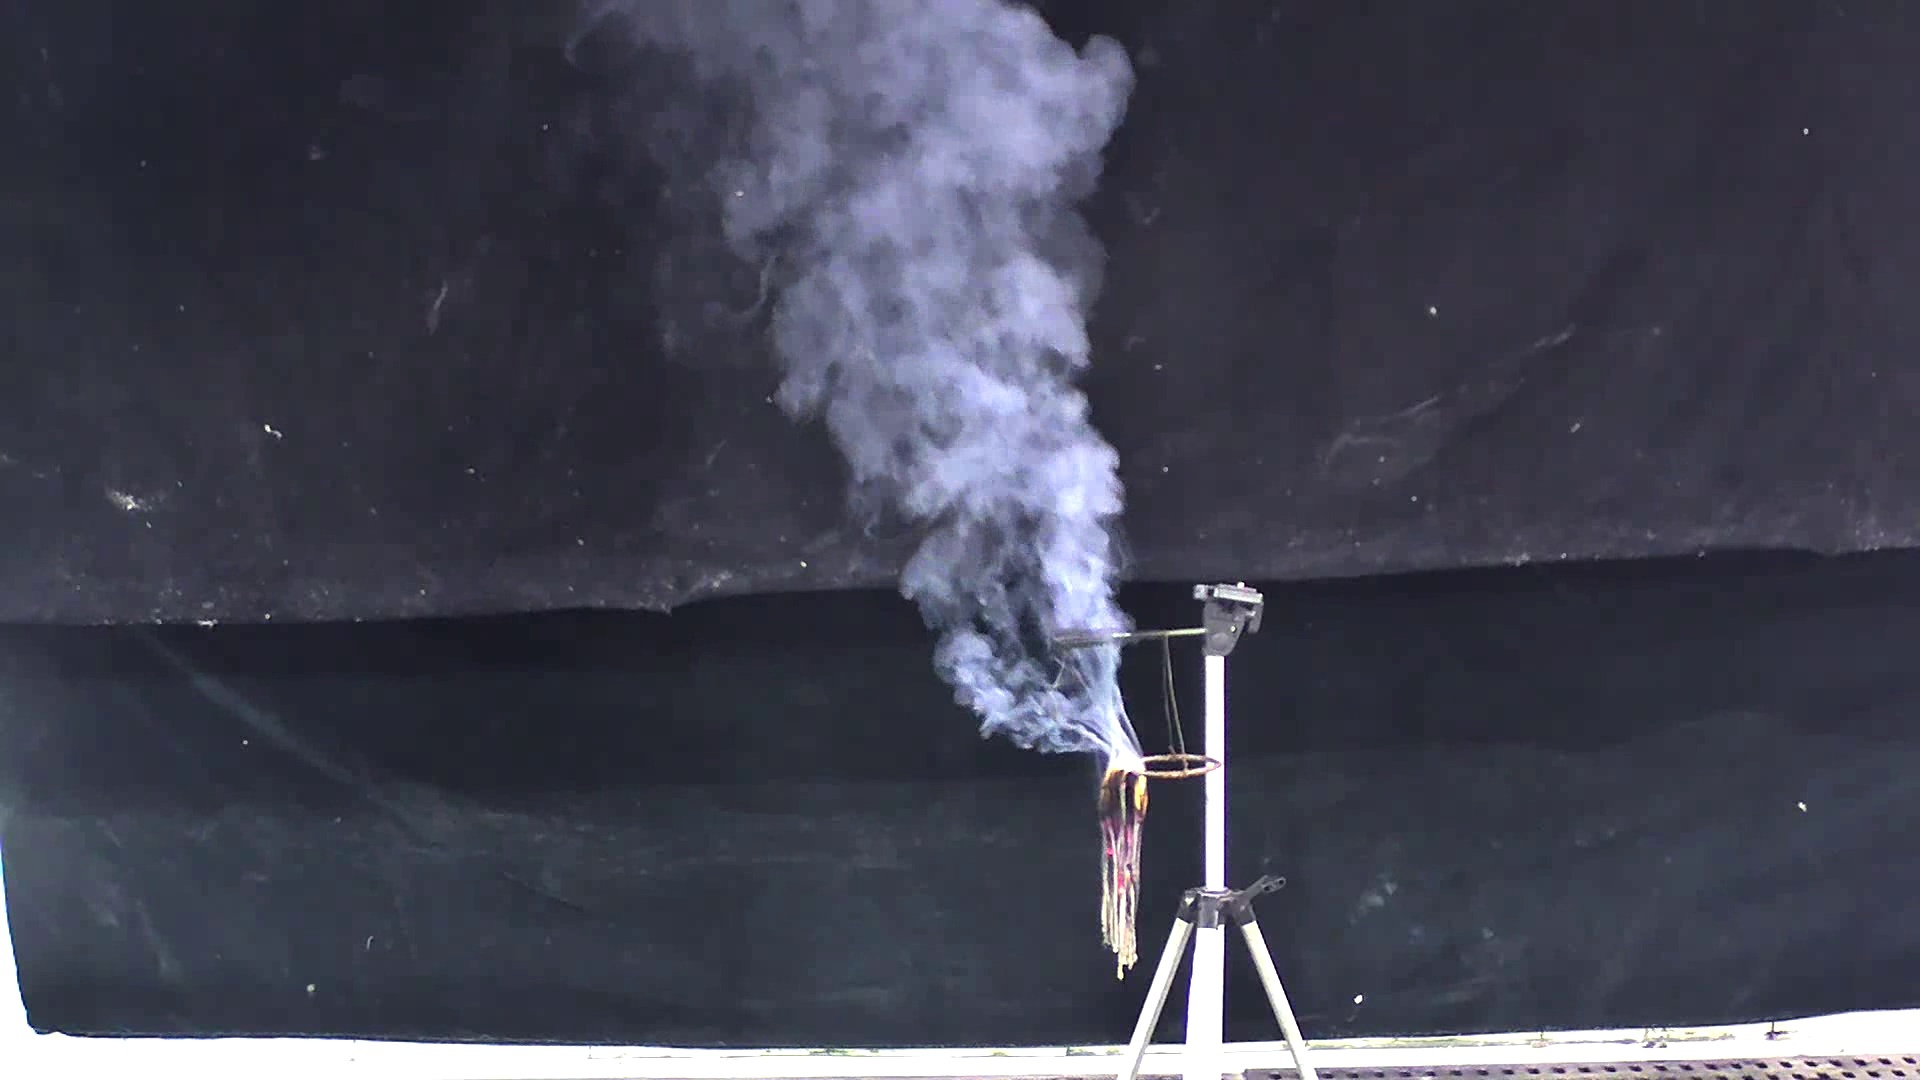smoke: (665, 1, 1160, 761)
